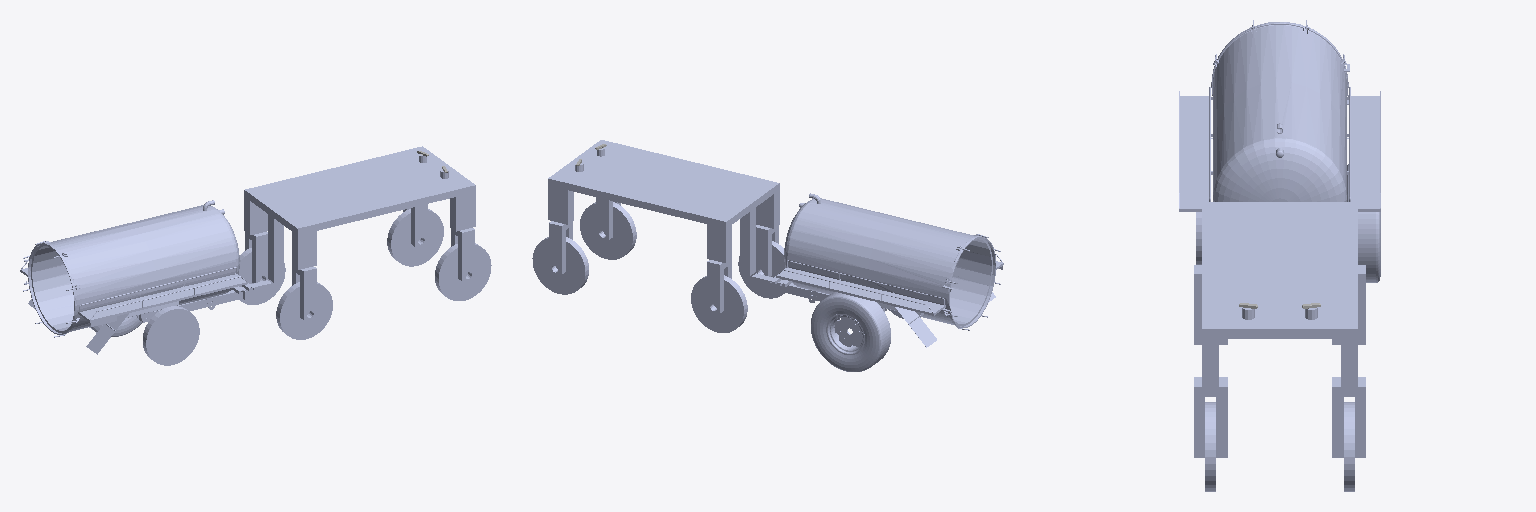
The robot description file, URDF, robot "Robot_urdf":
<?xml version="1.0" encoding="utf-8"?>
<!-- This URDF was automatically created by SolidWorks to URDF Exporter! Originally created by [author] ([email redacted]) 
     Commit Version: 1.6.0-4-g7f85cfe  Build Version: 1.6.7995.38578
     For more information, please see http://wiki.ros.org/sw_urdf_exporter -->
<robot name="Robot_urdf">
  <link
    name="base_link">
    <inertial>
      <origin
        xyz="-0.0465725557132797 -2.93480324367211E-16 -0.116264725139818"
        rpy="0 0 0" />
      <mass
        value="464.139758394477" />
      <inertia
        ixx="99.2338170738512"
        ixy="7.62952138134667E-15"
        ixz="-12.243030847228"
        iyy="370.009907284758"
        iyz="-1.72096773168008E-14"
        izz="443.675964397563" />
    </inertial>
    <visual>
      <origin
        xyz="0 0 0"
        rpy="0 0 0" />
      <geometry>
        <mesh
          filename="package://Robot_urdf/meshes/visual/base_link.STL" />
      </geometry>
      <material
        name="">
        <color
          rgba="0.792156862745098 0.819607843137255 0.933333333333333 1" />
      </material>
    </visual>
    <collision>
      <origin
        xyz="0 0 0"
        rpy="0 0 0" />
      <geometry>
        <mesh
          filename="package://Robot_urdf/meshes/visual/base_link.STL" />
      </geometry>
    </collision>
  </link>
  <link
    name="steer_front_left_link">
    <inertial>
      <origin
        xyz="2.22044604925031E-16 0 -0.413519569269691"
        rpy="0 0 0" />
      <mass
        value="31.8221237390821" />
      <inertia
        ixx="2.11863450177457"
        ixy="1.62197692698052E-16"
        ixz="-5.30195135585272E-17"
        iyy="1.92966971427727"
        iyz="3.18597770246443E-17"
        izz="0.393108548207387" />
    </inertial>
    <visual>
      <origin
        xyz="0 0 0"
        rpy="0 0 0" />
      <geometry>
        <mesh
          filename="package://Robot_urdf/meshes/visual/steer_front_left_link.STL" />
      </geometry>
      <material
        name="">
        <color
          rgba="0.792156862745098 0.819607843137255 0.933333333333333 1" />
      </material>
    </visual>
    <collision>
      <origin
        xyz="0 0 0"
        rpy="0 0 0" />
      <geometry>
        <mesh
          filename="package://Robot_urdf/meshes/visual/steer_front_left_link.STL" />
      </geometry>
    </collision>
  </link>
  <joint
    name="steer_front_left_link_j"
    type="continuous">
    <origin
      xyz="1.2009 0.62 -0.45"
      rpy="0 0 0" />
    <parent
      link="base_link" />
    <child
      link="steer_front_left_link" />
    <axis
      xyz="0 0 -1" />
  </joint>
  <link
    name="drive_front_left_link">
    <inertial>
      <origin
        xyz="0 0.0500000000000002 -2.22044604925031E-16"
        rpy="0 0 0" />
      <mass
        value="50.2654824574367" />
      <inertia
        ixx="2.05250720034533"
        ixy="-9.61409668274795E-16"
        ixz="-1.93710788150743E-16"
        iyy="4.02123859659493"
        iyz="-1.70737298010986E-17"
        izz="2.05250720034533" />
    </inertial>
    <visual>
      <origin
        xyz="0 0 0"
        rpy="0 0 0" />
      <geometry>
        <mesh
          filename="package://Robot_urdf/meshes/visual/drive_front_left_link.STL" />
      </geometry>
      <material
        name="">
        <color
          rgba="0.792156862745098 0.819607843137255 0.933333333333333 1" />
      </material>
    </visual>
    <collision>
      <origin
        xyz="0 0 0"
        rpy="0 0 0" />
      <geometry>
        <mesh
          filename="package://Robot_urdf/meshes/visual/drive_front_left_link.STL" />
      </geometry>
    </collision>
  </link>
  <joint
    name="drive_front_left_link_j"
    type="continuous">
    <origin
      xyz="0 -0.05 -0.79"
      rpy="0 0 0" />
    <parent
      link="steer_front_left_link" />
    <child
      link="drive_front_left_link" />
    <axis
      xyz="0 -1 0" />
  </joint>
  <link
    name="steer_front_right_link">
    <inertial>
      <origin
        xyz="-2.22044604925031E-16 -1.11022302462516E-16 -0.413519569269691"
        rpy="0 0 0" />
      <mass
        value="31.8221237390821" />
      <inertia
        ixx="2.11863450177457"
        ixy="-1.57170518626472E-17"
        ixz="-2.99117991640178E-19"
        iyy="1.92966971427727"
        iyz="-2.80363590584755E-18"
        izz="0.393108548207388" />
    </inertial>
    <visual>
      <origin
        xyz="0 0 0"
        rpy="0 0 0" />
      <geometry>
        <mesh
          filename="package://Robot_urdf/meshes/visual/steer_front_right_link.STL" />
      </geometry>
      <material
        name="">
        <color
          rgba="0.792156862745098 0.819607843137255 0.933333333333333 1" />
      </material>
    </visual>
    <collision>
      <origin
        xyz="0 0 0"
        rpy="0 0 0" />
      <geometry>
        <mesh
          filename="package://Robot_urdf/meshes/visual/steer_front_right_link.STL" />
      </geometry>
    </collision>
  </link>
  <joint
    name="steer_front_right_link_j"
    type="continuous">
    <origin
      xyz="1.2009 -0.62 -0.45"
      rpy="0 0 0" />
    <parent
      link="base_link" />
    <child
      link="steer_front_right_link" />
    <axis
      xyz="0 0 -1" />
  </joint>
  <link
    name="drive_front_right_link">
    <inertial>
      <origin
        xyz="0 0.0499999999999999 -2.22044604925031E-16"
        rpy="0 0 0" />
      <mass
        value="50.2654824574367" />
      <inertia
        ixx="2.05250720034533"
        ixy="-2.15428176892479E-16"
        ixz="-1.47451495458029E-16"
        iyy="4.02123859659493"
        iyz="-2.53528834134516E-17"
        izz="2.05250720034533" />
    </inertial>
    <visual>
      <origin
        xyz="0 0 0"
        rpy="0 0 0" />
      <geometry>
        <mesh
          filename="package://Robot_urdf/meshes/visual/drive_front_right_link.STL" />
      </geometry>
      <material
        name="">
        <color
          rgba="0.792156862745098 0.819607843137255 0.933333333333333 1" />
      </material>
    </visual>
    <collision>
      <origin
        xyz="0 0 0"
        rpy="0 0 0" />
      <geometry>
        <mesh
          filename="package://Robot_urdf/meshes/visual/drive_front_right_link.STL" />
      </geometry>
    </collision>
  </link>
  <joint
    name="drive_front_right_link_j"
    type="continuous">
    <origin
      xyz="0 -0.05 -0.79"
      rpy="0 0 0" />
    <parent
      link="steer_front_right_link" />
    <child
      link="drive_front_right_link" />
    <axis
      xyz="0 -1 0" />
  </joint>
  <link
    name="steer_back_left_link">
    <inertial>
      <origin
        xyz="0 0 -0.413519569269691"
        rpy="0 0 0" />
      <mass
        value="31.8221237390821" />
      <inertia
        ixx="2.11863450177457"
        ixy="1.82792851751206E-16"
        ixz="7.87112037307036E-17"
        iyy="1.92966971427727"
        iyz="3.81738289843737E-17"
        izz="0.393108548207387" />
    </inertial>
    <visual>
      <origin
        xyz="0 0 0"
        rpy="0 0 0" />
      <geometry>
        <mesh
          filename="package://Robot_urdf/meshes/visual/steer_back_left_link.STL" />
      </geometry>
      <material
        name="">
        <color
          rgba="0.792156862745098 0.819607843137255 0.933333333333333 1" />
      </material>
    </visual>
    <collision>
      <origin
        xyz="0 0 0"
        rpy="0 0 0" />
      <geometry>
        <mesh
          filename="package://Robot_urdf/meshes/visual/steer_back_left_link.STL" />
      </geometry>
    </collision>
  </link>
  <joint
    name="steer_back_left_link_j"
    type="continuous">
    <origin
      xyz="-1.1891 0.62 -0.45"
      rpy="0 0 0" />
    <parent
      link="base_link" />
    <child
      link="steer_back_left_link" />
    <axis
      xyz="0 0 -1" />
  </joint>
  <link
    name="drive_back_left_link">
    <inertial>
      <origin
        xyz="0 0.0500000000000002 0"
        rpy="0 0 0" />
      <mass
        value="50.2654824574368" />
      <inertia
        ixx="2.05250720034533"
        ixy="-1.65953769400635E-15"
        ixz="-3.70074341541719E-16"
        iyy="4.02123859659494"
        iyz="-1.58625276241255E-17"
        izz="2.05250720034534" />
    </inertial>
    <visual>
      <origin
        xyz="0 0 0"
        rpy="0 0 0" />
      <geometry>
        <mesh
          filename="package://Robot_urdf/meshes/visual/drive_back_left_link.STL" />
      </geometry>
      <material
        name="">
        <color
          rgba="0.792156862745098 0.819607843137255 0.933333333333333 1" />
      </material>
    </visual>
    <collision>
      <origin
        xyz="0 0 0"
        rpy="0 0 0" />
      <geometry>
        <mesh
          filename="package://Robot_urdf/meshes/visual/drive_back_left_link.STL" />
      </geometry>
    </collision>
  </link>
  <joint
    name="drive_back_left_link_j"
    type="continuous">
    <origin
      xyz="0 -0.05 -0.79"
      rpy="0 0 0" />
    <parent
      link="steer_back_left_link" />
    <child
      link="drive_back_left_link" />
    <axis
      xyz="0 -1 0" />
  </joint>
  <link
    name="steer_back_right_link">
    <inertial>
      <origin
        xyz="-2.22044604925031E-16 0 -0.413519569269691"
        rpy="0 0 0" />
      <mass
        value="31.822123739082" />
      <inertia
        ixx="2.11863450177457"
        ixy="-3.65507846704685E-17"
        ixz="2.29020411388488E-16"
        iyy="1.92966971427727"
        iyz="-1.82754635940051E-17"
        izz="0.393108548207387" />
    </inertial>
    <visual>
      <origin
        xyz="0 0 0"
        rpy="0 0 0" />
      <geometry>
        <mesh
          filename="package://Robot_urdf/meshes/visual/steer_back_right_link.STL" />
      </geometry>
      <material
        name="">
        <color
          rgba="0.792156862745098 0.819607843137255 0.933333333333333 1" />
      </material>
    </visual>
    <collision>
      <origin
        xyz="0 0 0"
        rpy="0 0 0" />
      <geometry>
        <mesh
          filename="package://Robot_urdf/meshes/visual/steer_back_right_link.STL" />
      </geometry>
    </collision>
  </link>
  <joint
    name="steer_back_right_link_j"
    type="continuous">
    <origin
      xyz="-1.1891 -0.62 -0.45"
      rpy="0 0 0" />
    <parent
      link="base_link" />
    <child
      link="steer_back_right_link" />
    <axis
      xyz="0 0 -1" />
  </joint>
  <link
    name="drive_back_right_link">
    <inertial>
      <origin
        xyz="0 0.0499999999999999 0"
        rpy="0 0 0" />
      <mass
        value="50.2654824574367" />
      <inertia
        ixx="2.05250720034533"
        ixy="5.56928548429207E-17"
        ixz="7.2280144832367E-18"
        iyy="4.02123859659493"
        iyz="-7.46409543899459E-19"
        izz="2.05250720034533" />
    </inertial>
    <visual>
      <origin
        xyz="0 0 0"
        rpy="0 0 0" />
      <geometry>
        <mesh
          filename="package://Robot_urdf/meshes/visual/drive_back_right_link.STL" />
      </geometry>
      <material
        name="">
        <color
          rgba="0.792156862745098 0.819607843137255 0.933333333333333 1" />
      </material>
    </visual>
    <collision>
      <origin
        xyz="0 0 0"
        rpy="0 0 0" />
      <geometry>
        <mesh
          filename="package://Robot_urdf/meshes/visual/drive_back_right_link.STL" />
      </geometry>
    </collision>
  </link>
  <joint
    name="drive_back_right_link_j"
    type="continuous">
    <origin
      xyz="0 -0.05 -0.79"
      rpy="0 0 0" />
    <parent
      link="steer_back_right_link" />
    <child
      link="drive_back_right_link" />
    <axis
      xyz="0 -1 0" />
  </joint>
  <link
    name="Left_camera_link">
    <inertial>
      <origin
        xyz="-0.0192505831113037 8.840691791967E-07 -0.000853423808698739"
        rpy="0 0 0" />
      <mass
        value="0.170322634289251" />
      <inertia
        ixx="0.00038295573326243"
        ixy="3.24590581191137E-09"
        ixz="-3.32032534969148E-07"
        iyy="3.25735374572707E-05"
        iyz="1.49879134412887E-09"
        izz="0.000390602341007197" />
    </inertial>
    <visual>
      <origin
        xyz="0 0 0"
        rpy="0 0 0" />
      <geometry>
        <mesh
          filename="package://Robot_urdf/meshes/visual/Left_camera_link.STL" />
      </geometry>
      <material
        name="">
        <color
          rgba="0.752941176470588 0.752941176470588 0.752941176470588 1" />
      </material>
    </visual>
    <collision>
      <origin
        xyz="0 0 0"
        rpy="0 0 0" />
      <geometry>
        <mesh
          filename="package://Robot_urdf/meshes/visual/Left_camera_link.STL" />
      </geometry>
    </collision>
  </link>
  <joint
    name="Left_camera_link_j"
    type="fixed">
    <origin
      xyz="1.136 0.28767 0.11513"
      rpy="0 0.034907 0.2618" />
    <parent
      link="base_link" />
    <child
      link="Left_camera_link" />
    <axis
      xyz="0 0 0" />
  </joint>
  <link
    name="right_camera_link">
    <inertial>
      <origin
        xyz="-0.0192505830109166 9.14524050432686E-07 -0.00085342523084625"
        rpy="0 0 0" />
      <mass
        value="0.170322633624158" />
      <inertia
        ixx="0.000382955707279669"
        ixy="3.25437023567629E-09"
        ixz="-3.32031556906543E-07"
        iyy="3.25735374652719E-05"
        iyz="1.49959851597051E-09"
        izz="0.000390602315124212" />
    </inertial>
    <visual>
      <origin
        xyz="0 0 0"
        rpy="0 0 0" />
      <geometry>
        <mesh
          filename="package://Robot_urdf/meshes/visual/right_camera_link.STL" />
      </geometry>
      <material
        name="">
        <color
          rgba="0.752941176470588 0.752941176470588 0.752941176470588 1" />
      </material>
    </visual>
    <collision>
      <origin
        xyz="0 0 0"
        rpy="0 0 0" />
      <geometry>
        <mesh
          filename="package://Robot_urdf/meshes/visual/right_camera_link.STL" />
      </geometry>
    </collision>
  </link>
  <joint
    name="right_camera_link_j"
    type="fixed">
    <origin
      xyz="1.136 -0.28767 0.11513"
      rpy="0 0.034907 -0.2618" />
    <parent
      link="base_link" />
    <child
      link="right_camera_link" />
    <axis
      xyz="0 0 0" />
  </joint>
  <link
    name="tow_link">
    <inertial>
      <origin
        xyz="-1.94380750072301 0.000298673408522626 0.704786860499349"
        rpy="0 0 0" />
      <mass
        value="359.93936151353" />
      <inertia
        ixx="110.928132962926"
        ixy="0.107499206749833"
        ixz="-2.13510593134076"
        iyy="260.066986748289"
        iyz="-0.00176075130579262"
        izz="266.975973034899" />
    </inertial>
    <visual>
      <origin
        xyz="0 0 0"
        rpy="0 0 0" />
      <geometry>
        <mesh
          filename="package://Robot_urdf/meshes/visual/tow_link.STL" />
      </geometry>
      <material
        name="">
        <color
          rgba="0.792156862745098 0.819607843137255 0.933333333333333 1" />
      </material>
    </visual>
    <collision>
      <origin
        xyz="0 0 0"
        rpy="0 0 0" />
      <geometry>
        <mesh
          filename="package://Robot_urdf/meshes/visual/tow_link.STL" />
      </geometry>
    </collision>
  </link>
  <joint
    name="tow_link_j"
    type="continuous">
    <origin
      xyz="-1.2641 0 -1.16"
      rpy="0 0 0" />
    <parent
      link="base_link" />
    <child
      link="tow_link" />
    <axis
      xyz="0 0 1" />
  </joint>
  <link
    name="left_wheel_link">
    <inertial>
      <origin
        xyz="4.50528346629397E-07 0.00235156398011982 6.74949824919224E-07"
        rpy="0 0 0" />
      <mass
        value="28.0847226026861" />
      <inertia
        ixx="2.90555283785165"
        ixy="1.61831383029954E-06"
        ixz="8.40990820831575E-07"
        iyy="5.10686061141816"
        iyz="2.42124360932871E-06"
        izz="2.90554839061851" />
    </inertial>
    <visual>
      <origin
        xyz="0 0 0"
        rpy="0 0 0" />
      <geometry>
        <mesh
          filename="package://Robot_urdf/meshes/visual/left_wheel_link.STL" />
      </geometry>
      <material
        name="">
        <color
          rgba="0.792156862745098 0.819607843137255 0.933333333333333 1" />
      </material>
    </visual>
    <collision>
      <origin
        xyz="0 0 0"
        rpy="0 0 0" />
      <geometry>
        <mesh
          filename="package://Robot_urdf/meshes/visual/left_wheel_link.STL" />
      </geometry>
    </collision>
  </link>
  <joint
    name="left_wheel_link_j"
    type="continuous">
    <origin
      xyz="-1.985 0.74861 0.06"
      rpy="0 0 0" />
    <parent
      link="tow_link" />
    <child
      link="left_wheel_link" />
    <axis
      xyz="0 1 0" />
  </joint>
  <link
    name="right_wheel_link">
    <inertial>
      <origin
        xyz="-2.56363618333921E-07 0.00235156398012015 7.69942045675265E-07"
        rpy="0 0 0" />
      <mass
        value="28.084722602686" />
      <inertia
        ixx="2.9055492508173"
        ixy="-9.18340703368884E-07"
        ixz="1.94751846341549E-06"
        iyy="5.10686061141815"
        iyz="2.76369510503212E-06"
        izz="2.90555197765286" />
    </inertial>
    <visual>
      <origin
        xyz="0 0 0"
        rpy="0 0 0" />
      <geometry>
        <mesh
          filename="package://Robot_urdf/meshes/visual/right_wheel_link.STL" />
      </geometry>
      <material
        name="">
        <color
          rgba="0.792156862745098 0.819607843137255 0.933333333333333 1" />
      </material>
    </visual>
    <collision>
      <origin
        xyz="0 0 0"
        rpy="0 0 0" />
      <geometry>
        <mesh
          filename="package://Robot_urdf/meshes/visual/right_wheel_link.STL" />
      </geometry>
    </collision>
  </link>
  <joint
    name="right_wheel_link_j"
    type="continuous">
    <origin
      xyz="-1.985 -0.74861 0.06"
      rpy="0 0 0" />
    <parent
      link="tow_link" />
    <child
      link="right_wheel_link" />
    <axis
      xyz="0 1 0" />
  </joint>
</robot>

--- Render facts (derived) ---
3 views of the same robot in one strip: view 1: azimuth 30°, elevation 25°; view 2: azimuth 150°, elevation 25°; view 3: azimuth 270°, elevation 25° (orthographic).
Model Robot_urdf with 14 links and 13 joints (11 continuous, 2 fixed), rooted at base_link, posed every joint at zero.
Links seen in each view (by area): view 1: tow_link, base_link, right_wheel_link, drive_back_right_link, drive_front_left_link, drive_front_right_link, steer_back_right_link, steer_front_right_link, steer_back_left_link, drive_back_left_link, steer_front_left_link; view 2: tow_link, base_link, left_wheel_link, drive_front_right_link, drive_back_left_link, drive_front_left_link, steer_back_left_link, steer_front_left_link, steer_back_right_link, drive_back_right_link, steer_front_right_link; view 3: tow_link, base_link, steer_front_left_link, steer_front_right_link, left_wheel_link, drive_front_left_link, drive_front_right_link, steer_back_left_link, steer_back_right_link.
Link boxes in pixels (x1,y1,x2,y2): tow_link: (20, 200, 279, 354); base_link: (244, 146, 475, 282); right_wheel_link: (143, 306, 199, 365); drive_back_right_link: (276, 282, 332, 339); drive_front_left_link: (387, 209, 443, 266); drive_front_right_link: (435, 243, 491, 300); steer_back_right_link: (292, 266, 316, 319); steer_front_right_link: (451, 228, 474, 280); steer_back_left_link: (245, 232, 269, 282); drive_back_left_link: (239, 248, 285, 304); steer_front_left_link: (403, 204, 427, 246); tow_link: (744, 193, 1003, 347); base_link: (548, 140, 779, 275); left_wheel_link: (811, 292, 890, 371); drive_front_right_link: (580, 202, 636, 259); drive_back_left_link: (691, 275, 747, 332); drive_front_left_link: (532, 237, 588, 294); steer_back_left_link: (707, 260, 731, 312); steer_front_left_link: (549, 221, 572, 274); steer_back_right_link: (754, 225, 778, 276); drive_back_right_link: (738, 241, 784, 298); steer_front_right_link: (596, 197, 620, 239); tow_link: (1179, 20, 1380, 211); base_link: (1202, 202, 1357, 388); steer_front_left_link: (1332, 377, 1365, 457); steer_front_right_link: (1194, 377, 1227, 457); left_wheel_link: (1347, 164, 1380, 282); drive_front_left_link: (1344, 402, 1354, 491); drive_front_right_link: (1205, 402, 1215, 491); steer_back_left_link: (1332, 265, 1365, 344); steer_back_right_link: (1194, 265, 1227, 344).
Size in the robot's own frame: 6.35 by 1.82 by 1.97 metres.
14 mesh visuals loaded from 14 distinct referenced files (14 binary STL).